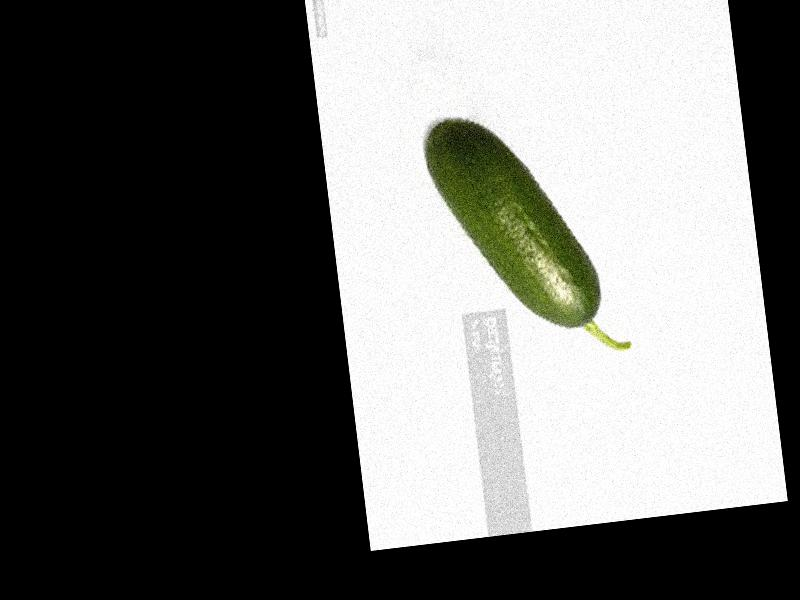Cucumber: (420, 103, 630, 375)
